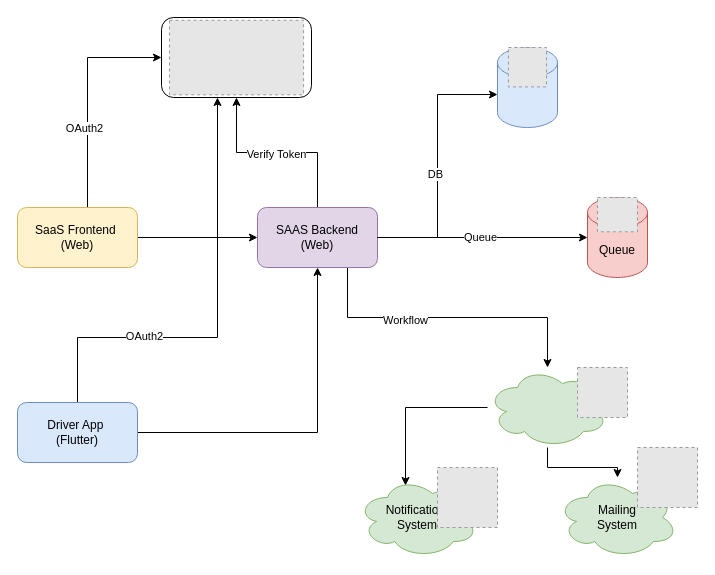
Image size: 715x575. Some labels were removed from this diagram. Grey dashed boxes stand in for pictures. Each missing label, with the box of its shape:
ERP DB: (496, 46, 558, 128)
Workflow System: (486, 366, 608, 448)
